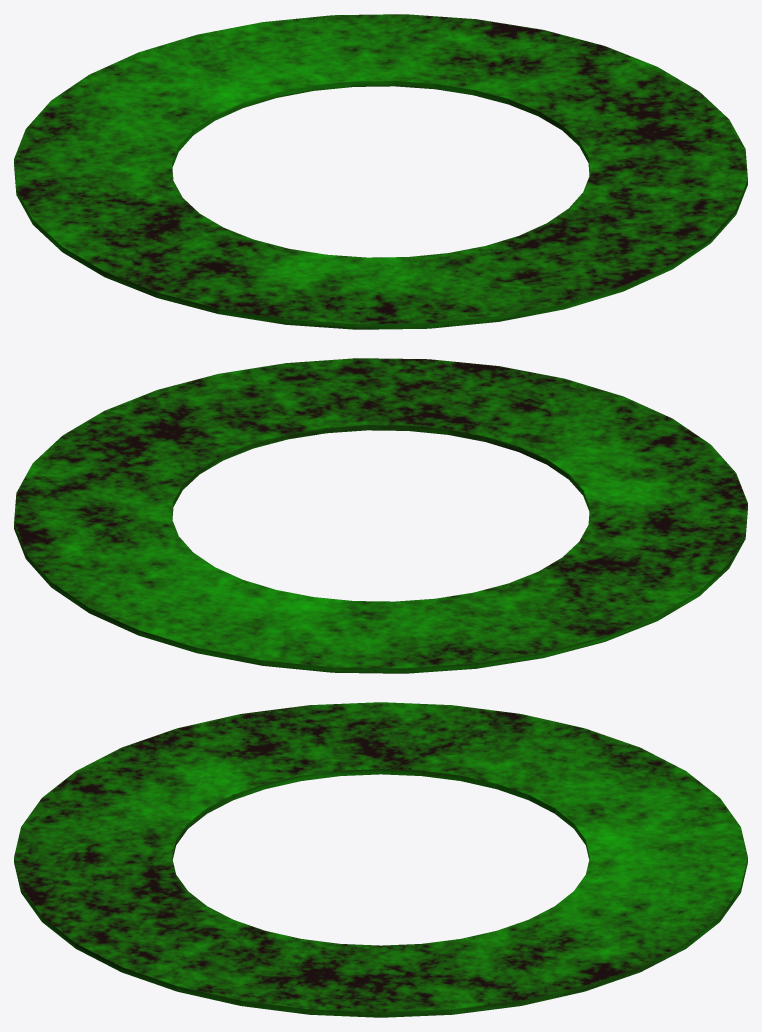
File: green-flat-plate.glb
The picture shows the model from 3 angles, top to bottom: view 1: azimuth 30°, elevation 25°; view 2: azimuth 150°, elevation 25°; view 3: azimuth 270°, elevation 25°; orthographic projection.
Parts seen in each view (by area): view 1: plate-donut; view 2: plate-donut; view 3: plate-donut.
Part boxes in pixels (x1,y1,x2,y2): plate-donut: [14, 14, 747, 329]; plate-donut: [14, 358, 747, 673]; plate-donut: [14, 702, 747, 1017].
Bounding box in the file's own units: 21.27 × 0.1725 × 21.27.
1 material, 1 textured.
